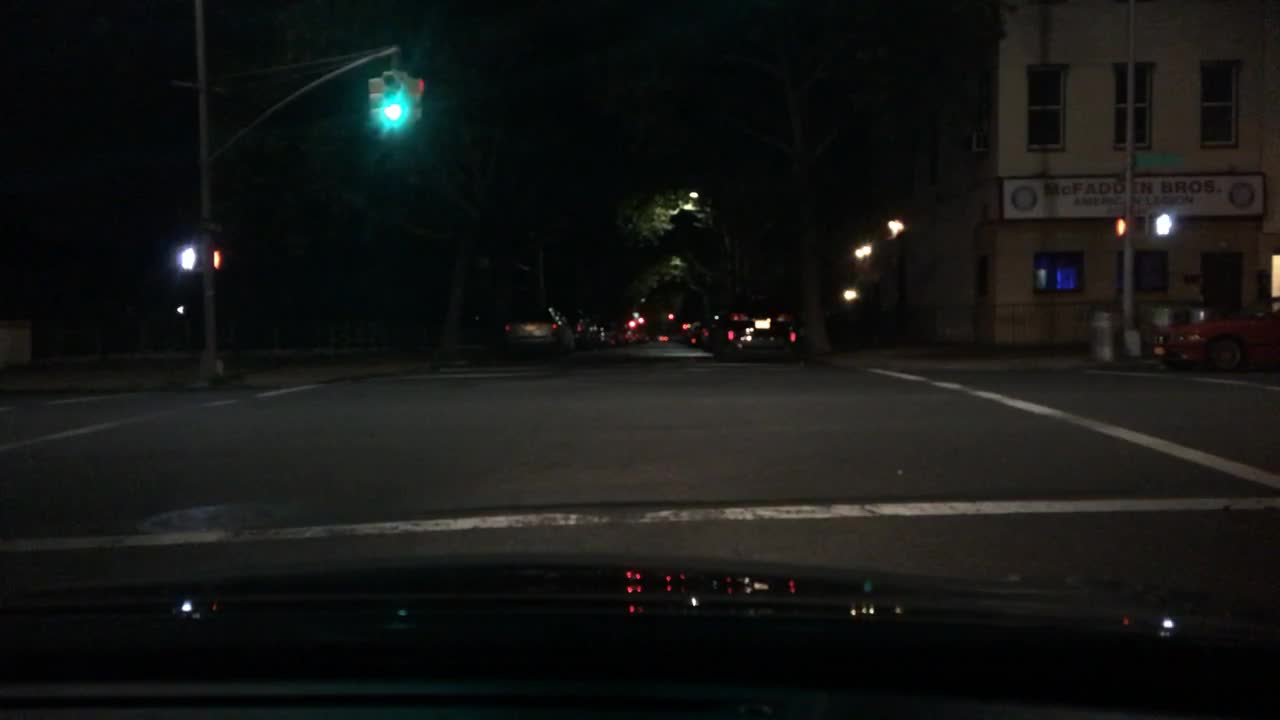car: (1149, 294, 1277, 379), (711, 315, 795, 362), (503, 306, 572, 353), (571, 316, 603, 348), (697, 319, 723, 351), (685, 321, 701, 346), (620, 328, 639, 343), (600, 329, 619, 344), (657, 335, 669, 341)
traffic light: (379, 70, 406, 129), (406, 74, 424, 131), (1146, 209, 1174, 237), (367, 76, 382, 128), (178, 242, 197, 271), (212, 249, 223, 270), (1115, 217, 1125, 236), (667, 311, 674, 320), (628, 317, 634, 327), (637, 316, 643, 325)
